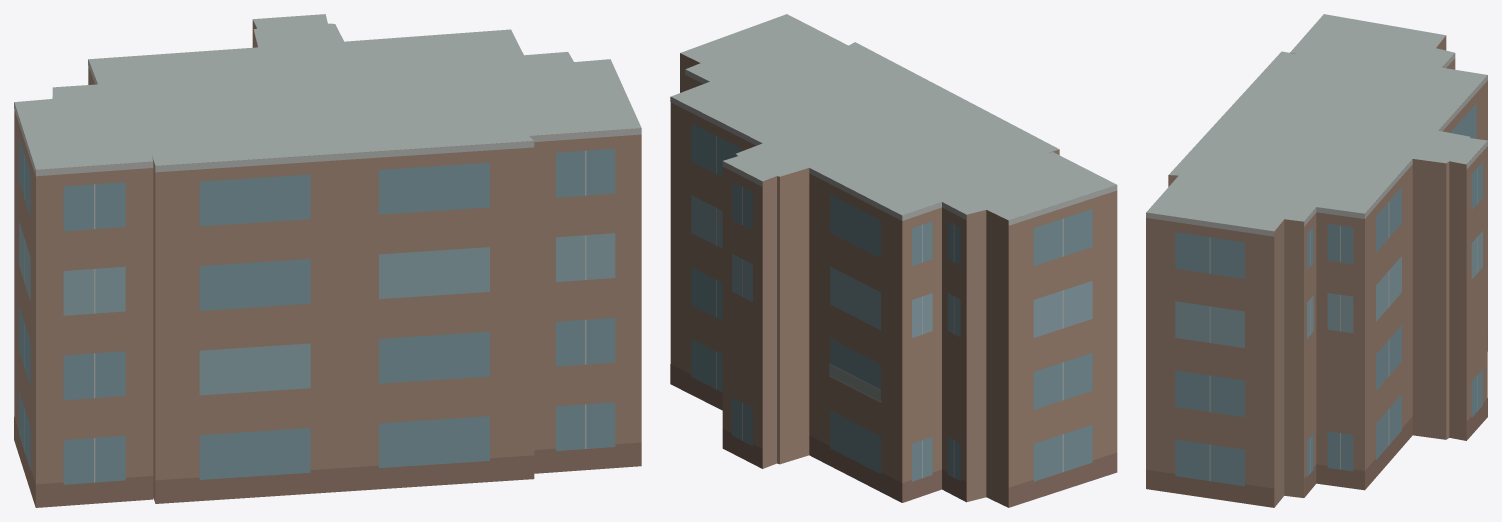
Rendered from survey-upis-32980780.glb.
3 renders of one model, left to right at view 1: azimuth 30°, elevation 25°; view 2: azimuth 150°, elevation 25°; view 3: azimuth 270°, elevation 25°, orthographic. The views are drawn at different scales.
Parts seen in each view (by area): view 1: survey-upis-32980780.tmp; view 2: survey-upis-32980780.tmp; view 3: survey-upis-32980780.tmp.
Part boxes in pixels (left/top/right/bottom): survey-upis-32980780.tmp: left=14, top=14, right=641, bottom=507; survey-upis-32980780.tmp: left=670, top=14, right=1117, bottom=507; survey-upis-32980780.tmp: left=1146, top=14, right=1487, bottom=507.
Size of the model in its own units: 21.42 by 12.7 by 14.23.
